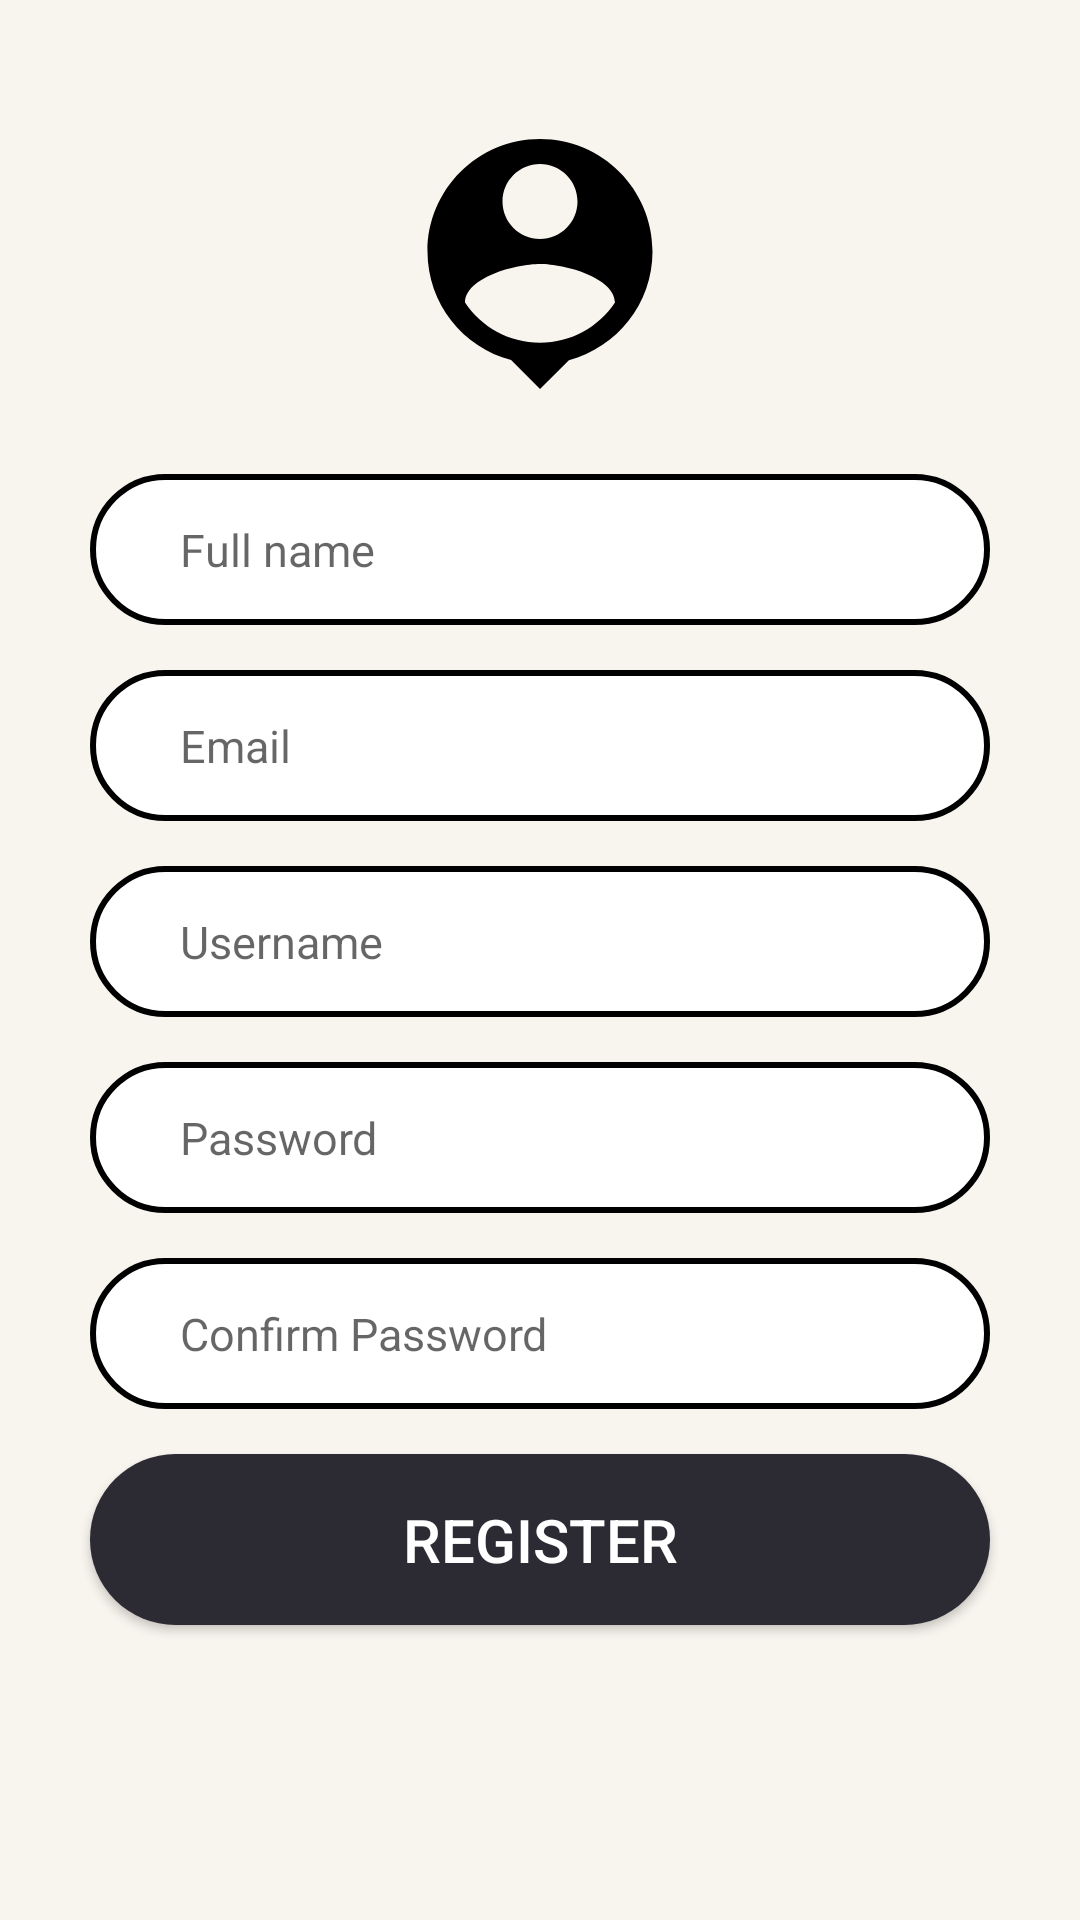

Locate icon controls on the screen. Image size 1080×1920, boxes as (x1, y1, x2, y2).
person pin: (427, 139, 653, 389)
